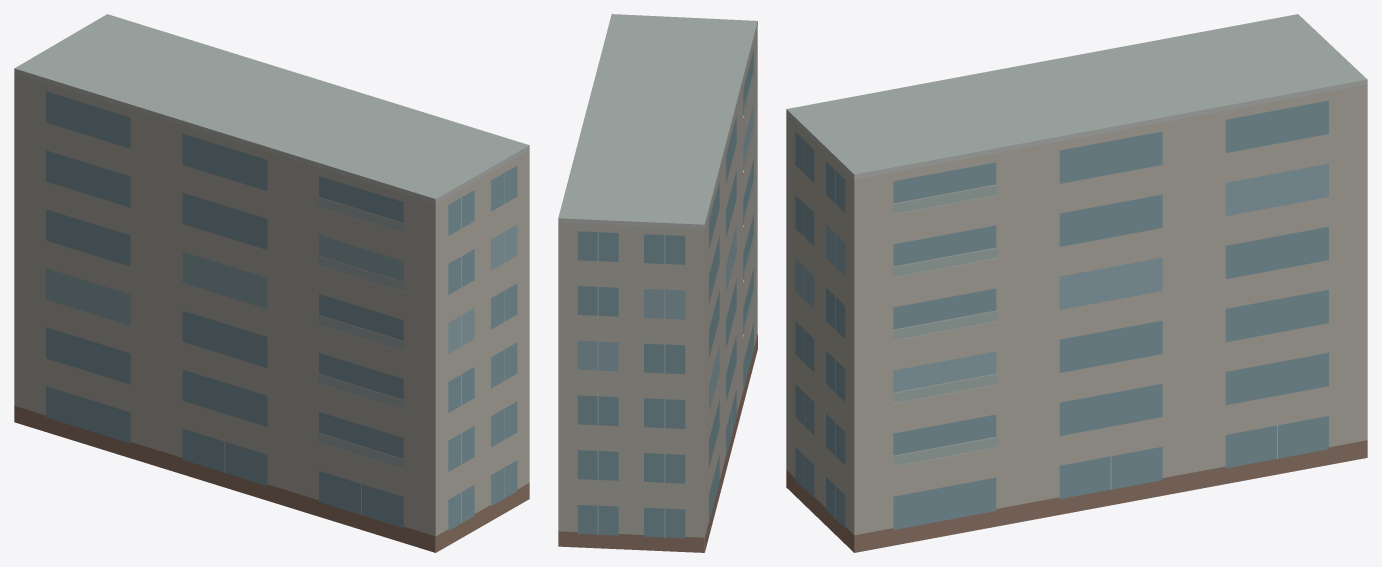
The model's file is survey-upis-33028023.glb.
3 renders of one model, left to right at view 1: azimuth 30°, elevation 25°; view 2: azimuth 150°, elevation 25°; view 3: azimuth 270°, elevation 25°, orthographic. The views are drawn at different scales.
Visible parts, largest first — view 1: survey-upis-33028023.tmp; view 2: survey-upis-33028023.tmp; view 3: survey-upis-33028023.tmp.
Part boxes in pixels (left/top/right/bottom): survey-upis-33028023.tmp: left=14, top=14, right=529, bottom=552; survey-upis-33028023.tmp: left=558, top=14, right=757, bottom=552; survey-upis-33028023.tmp: left=786, top=14, right=1367, bottom=552.
Bounding box in the file's own units: 17.04 × 18.7 × 26.05.
